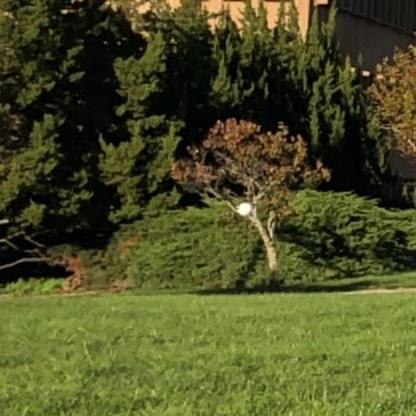golfball: (235, 199, 250, 216)
